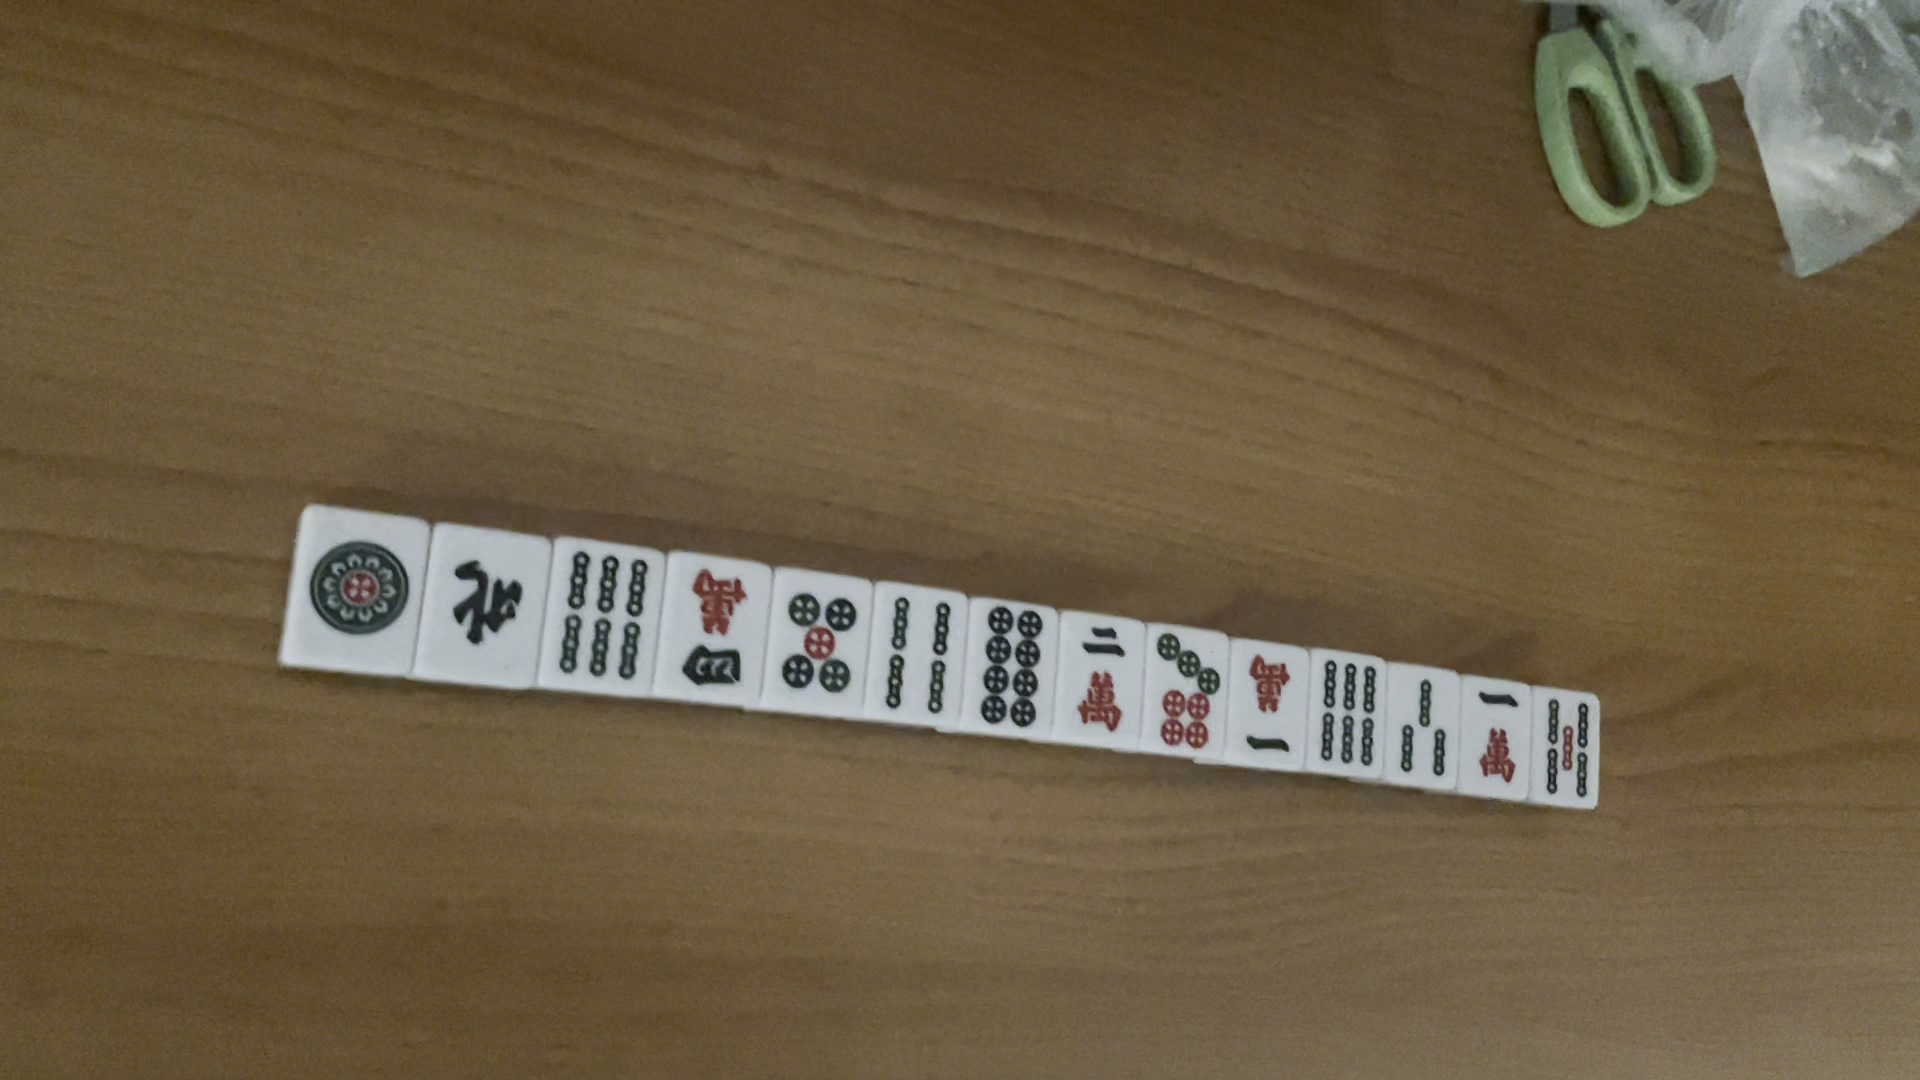b-3: (1393, 675, 1455, 782)
b-4: (883, 592, 958, 714)
b-5: (1541, 688, 1594, 805)
b-6: (555, 551, 652, 686), (1310, 658, 1381, 770)
c-1: (1468, 676, 1526, 789), (1244, 651, 1299, 763)
c-2: (1070, 621, 1135, 734)
c-4: (677, 562, 757, 695)
d-1: (303, 534, 416, 644)
d-5: (774, 589, 865, 699)
d-7: (1152, 628, 1226, 753)
d-8: (971, 601, 1045, 730)
honors-north: (439, 557, 529, 648)
